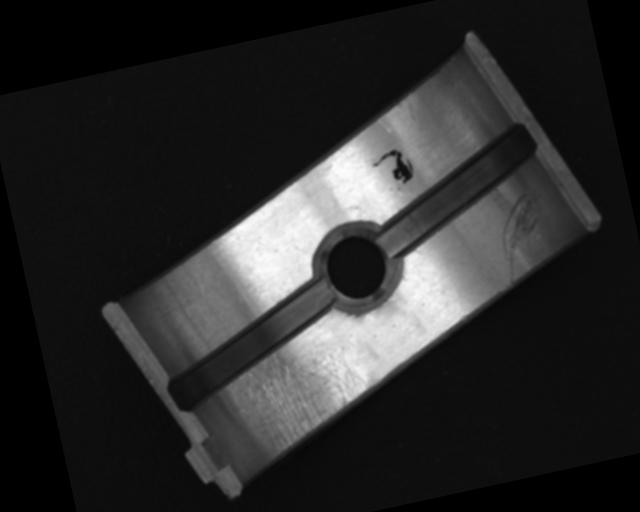blot: (368, 144, 416, 190)
gap: (146, 277, 351, 417), (357, 118, 555, 261)
hole: (309, 217, 404, 314)
nick: (490, 184, 556, 286)
scratch: (241, 334, 384, 459)
